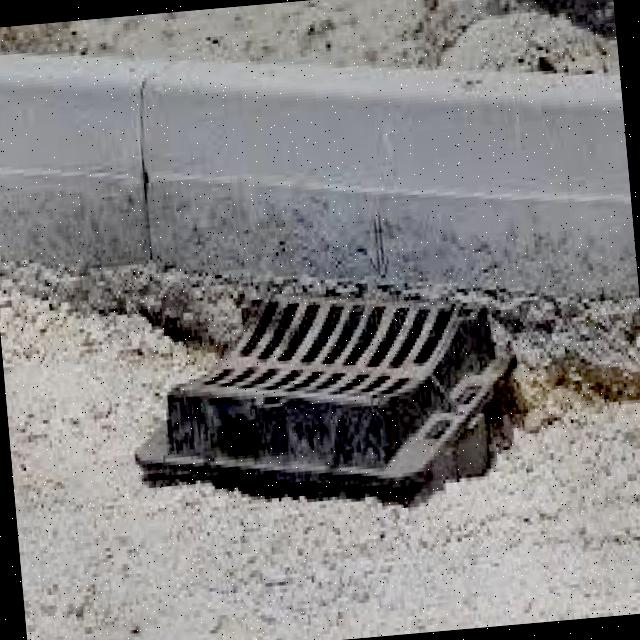curb: (281, 33, 640, 322), (1, 31, 289, 309)
